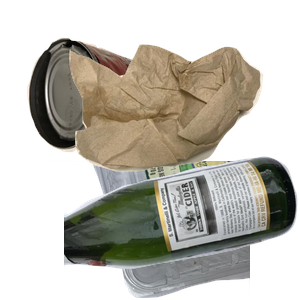glass: (64, 154, 300, 300)
metal: (25, 35, 189, 180)
plastic: (23, 161, 263, 300)
trash: (67, 42, 300, 206)
